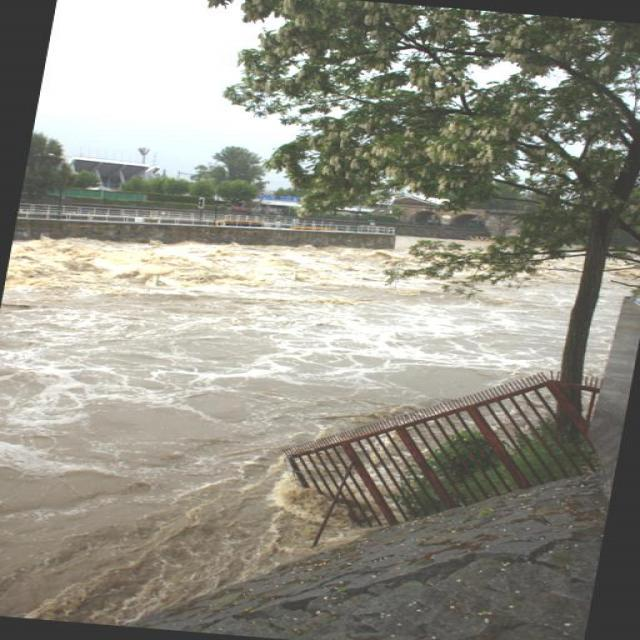flood: (0, 198, 578, 636)
